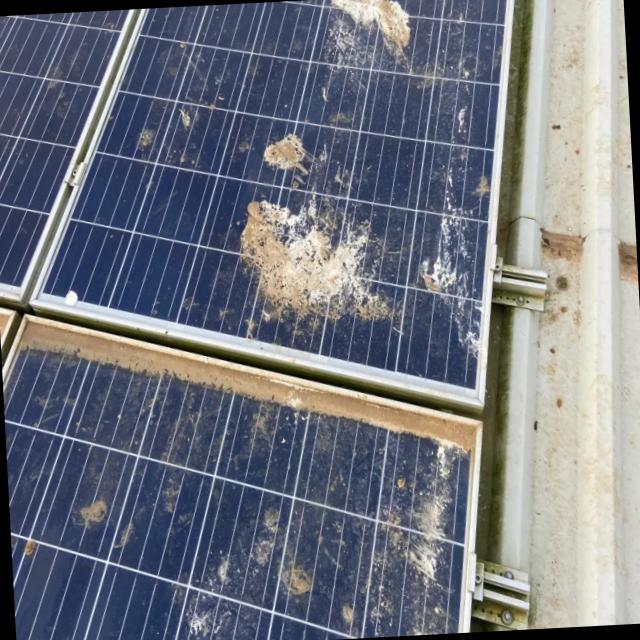faulty: (0, 0, 505, 640), (232, 120, 490, 378), (323, 0, 484, 104)
